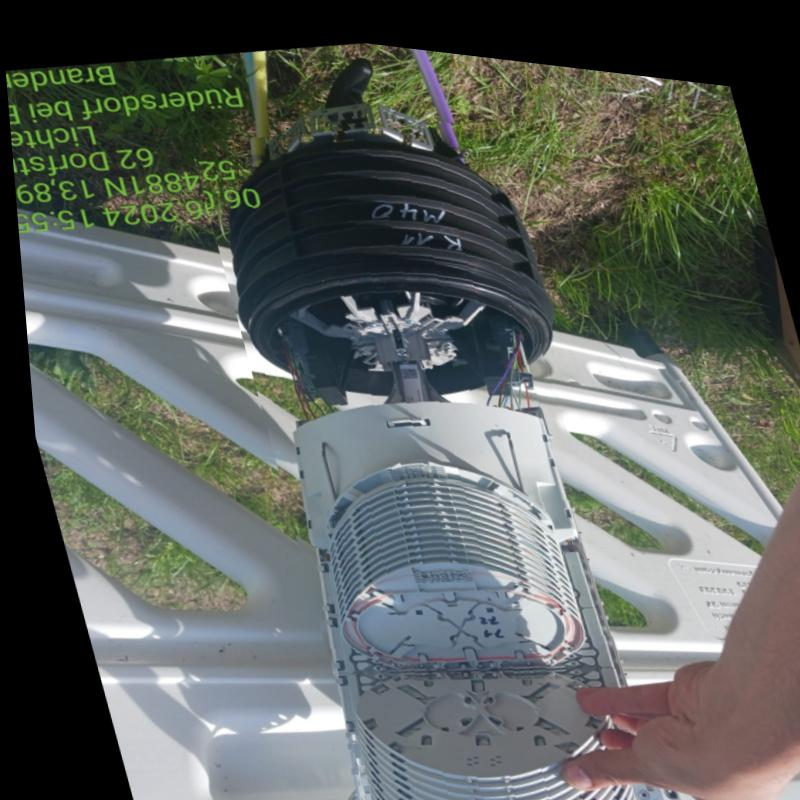NT-Muffen: (183, 80, 665, 800)
